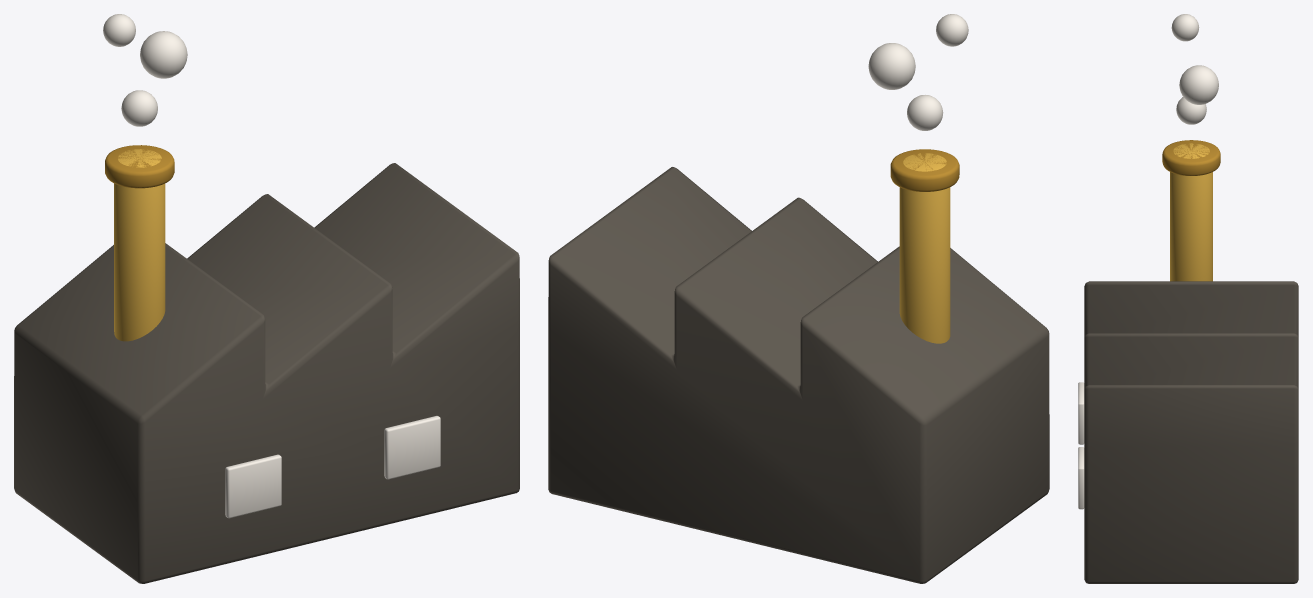
File: bens-industriais.glb
The picture shows the model from 3 angles, left to right: view 1: azimuth 30°, elevation 25°; view 2: azimuth 150°, elevation 25°; view 3: azimuth 270°, elevation 25°; orthographic projection. The views are drawn at different scales.
Visible parts, largest first — view 1: Galpao, Chamine, Fumaca2, Fumaca1, Fumaca3; view 2: Galpao, Chamine, Fumaca2, Fumaca1, Fumaca3; view 3: Galpao, Chamine, Fumaca2, Fumaca3, Fumaca1.
Part boxes in pixels (x1,y1,x2,y2): Galpao: (14,163,519,583); Chamine: (105,145,174,341); Fumaca2: (140,31,187,78); Fumaca1: (121,90,157,126); Fumaca3: (103,14,135,46); Galpao: (548,167,1049,583); Chamine: (890,149,959,343); Fumaca2: (868,43,915,89); Fumaca1: (907,95,943,130); Fumaca3: (936,14,968,46); Galpao: (1078,281,1298,583); Chamine: (1162,140,1220,281); Fumaca2: (1179,65,1218,104); Fumaca3: (1171,14,1199,41); Fumaca1: (1176,97,1206,124).
Bounding box in the file's own units: 0.7717 × 1 × 0.463.
